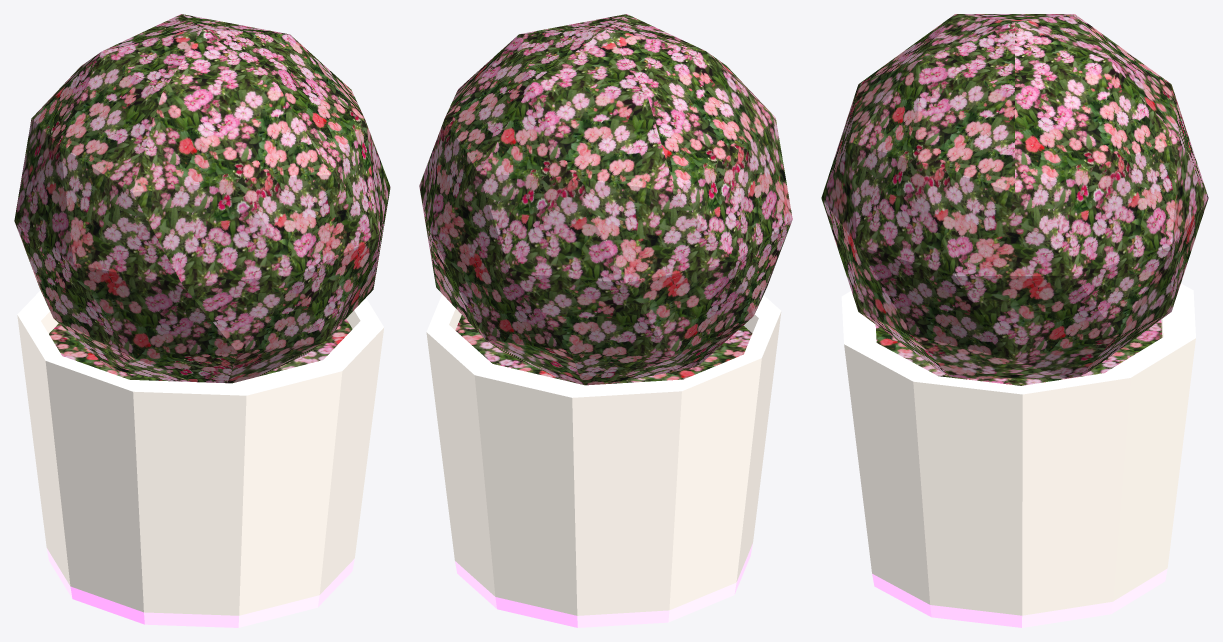
File: GeekGoddess-plant.glb
The picture shows the model from 3 angles, left to right: view 1: azimuth 30°, elevation 25°; view 2: azimuth 150°, elevation 25°; view 3: azimuth 270°, elevation 25°; orthographic projection.
Visible parts, largest first — view 1: plant; view 2: plant; view 3: plant.
Part boxes in pixels (box(x1,y1,x2,y2)): plant: box(14, 14, 390, 627); plant: box(419, 14, 792, 627); plant: box(821, 14, 1208, 627).
Size of what is drawn, in the model's own units: 0.8757 by 1.42 by 0.9208.
3 materials, 1 textured.
